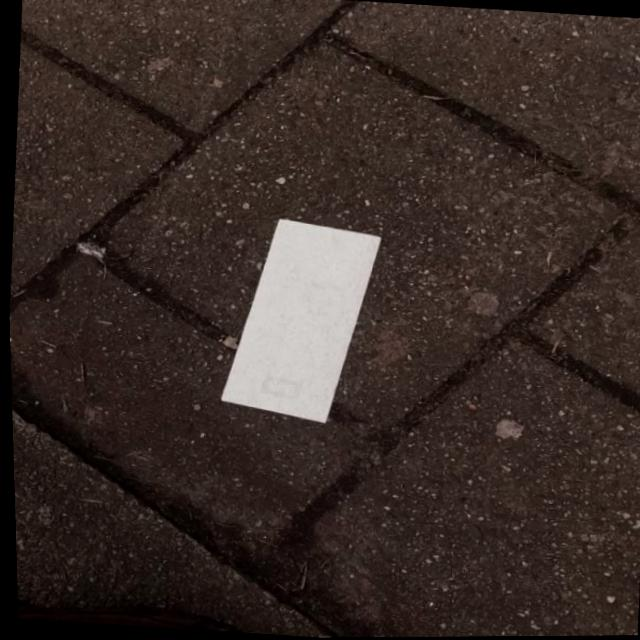Paper: (209, 210, 387, 432)
